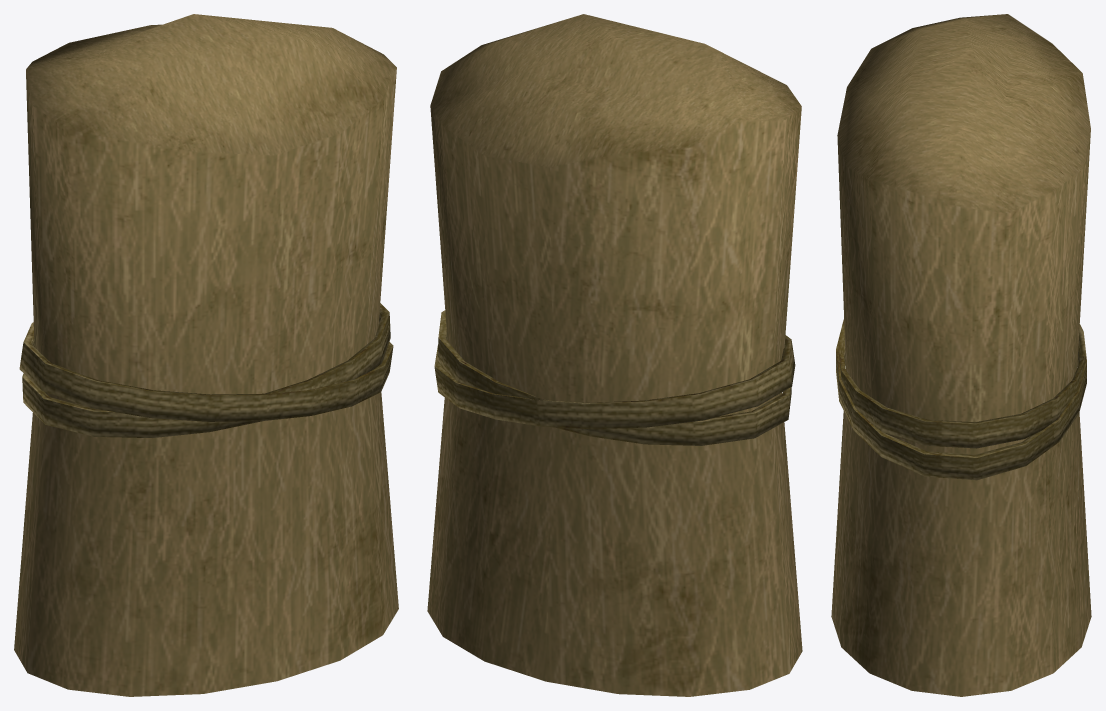
3 renders of one model, left to right at view 1: azimuth 30°, elevation 25°; view 2: azimuth 150°, elevation 25°; view 3: azimuth 270°, elevation 25°, orthographic. The views are drawn at different scales.
Parts seen in each view (by area): view 1: SM_Rice_Straw; view 2: SM_Rice_Straw; view 3: SM_Rice_Straw.
Part boxes in pixels (x1=…): SM_Rice_Straw: x1=14, y1=14, x2=398, y2=696; SM_Rice_Straw: x1=427, y1=14, x2=802, y2=696; SM_Rice_Straw: x1=831, y1=14, x2=1091, y2=696.
Bounding box in the file's own units: 0.5071 × 0.8297 × 0.3469.
1 material, 1 textured.
